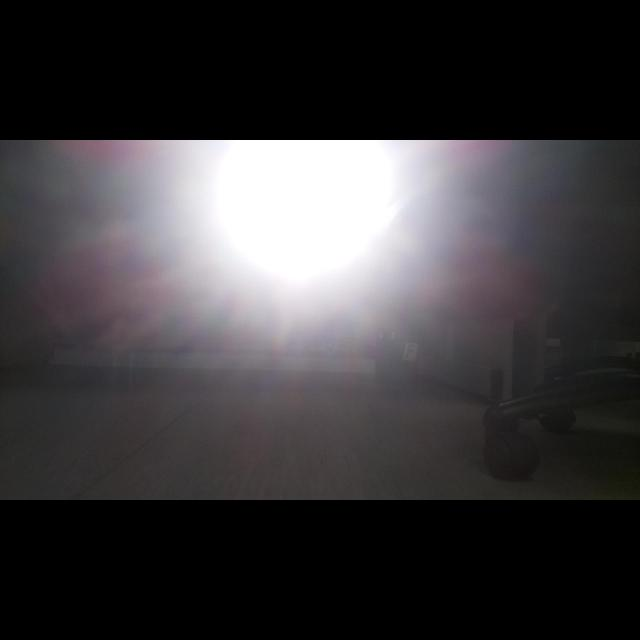F: (406, 344, 415, 359)
